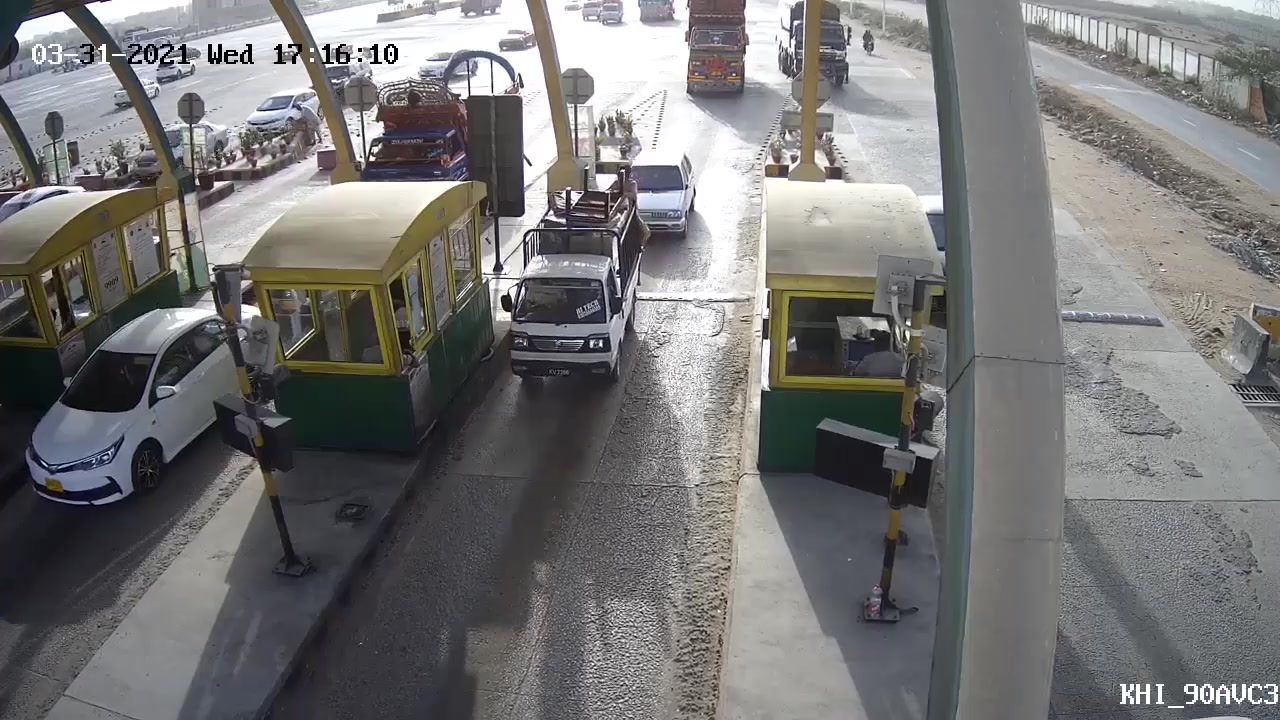F1: (489, 177, 650, 396)
